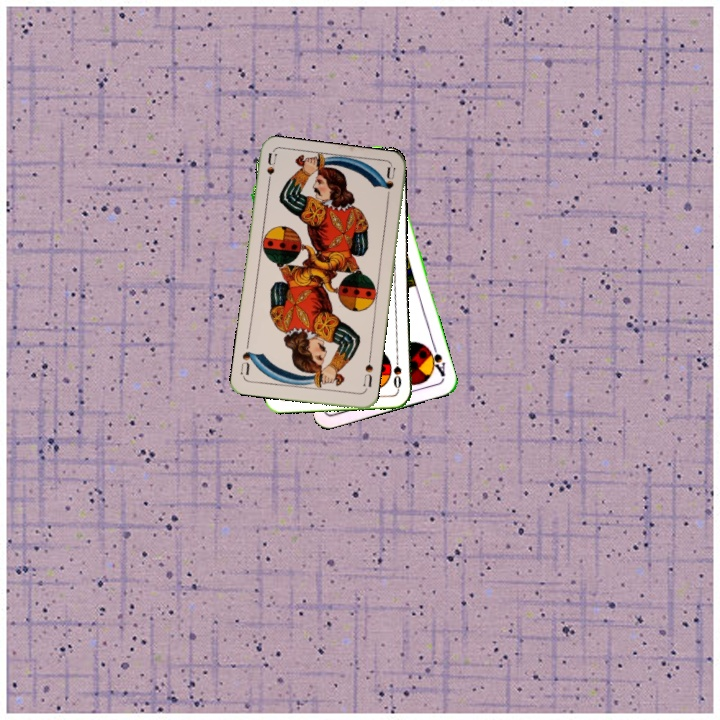SA: (423, 340, 448, 379)
SO: (389, 351, 404, 392)
SU: (359, 353, 376, 394), (263, 150, 279, 191)
